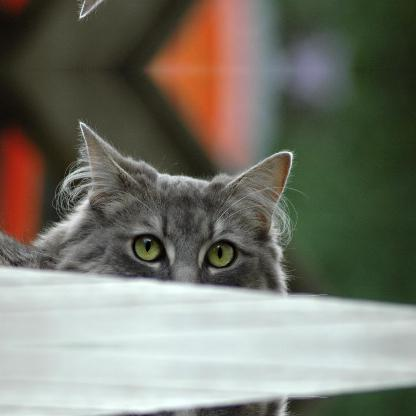Cat: (0, 119, 327, 295)
